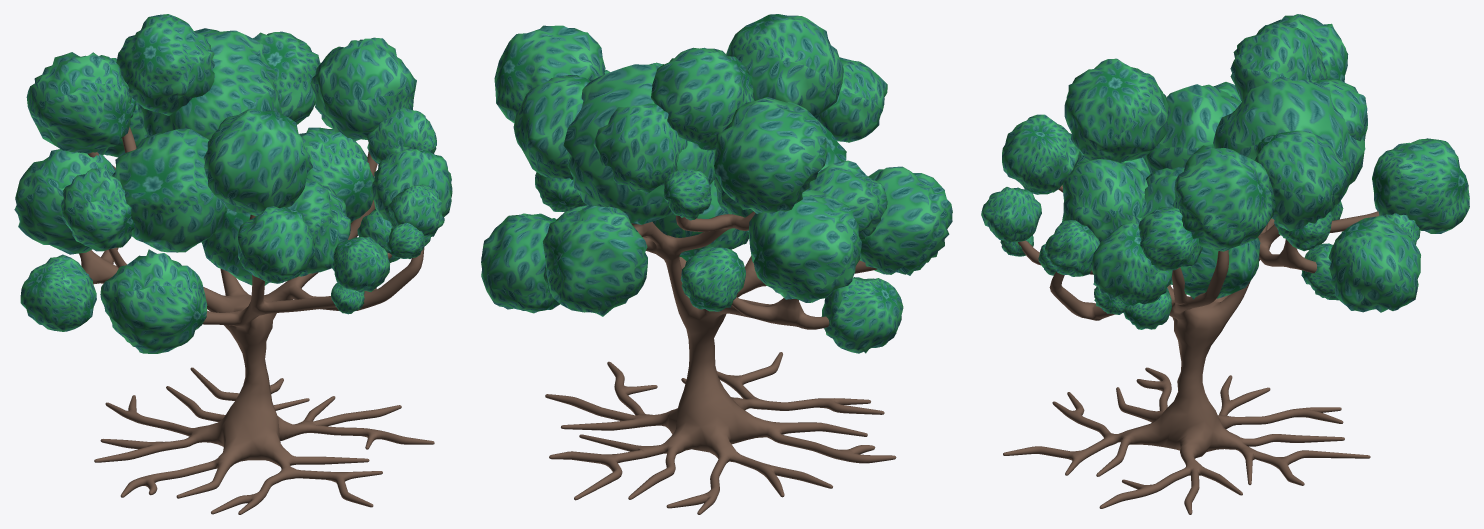
The model's file is MainTree.fbx.
3 views of the same model, side by side, from view 1: azimuth 30°, elevation 25°; view 2: azimuth 150°, elevation 25°; view 3: azimuth 270°, elevation 25° (orthographic). The views are drawn at different scales.
Visible parts, largest first — view 1: BigTree; view 2: BigTree; view 3: BigTree.
Boxes of the visible parts, x1,y1,x2,y2 form: BigTree: (14,14,452,514); BigTree: (481,14,952,514); BigTree: (981,14,1469,514).
Size of the model in its own units: 2677 by 2760 by 3057.
